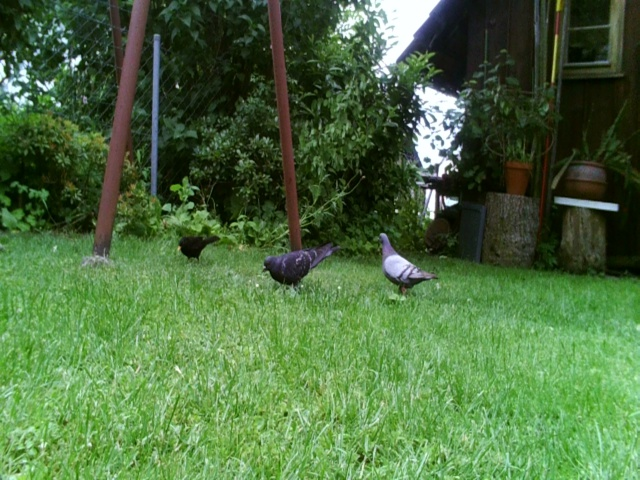Pigeon: (371, 228, 439, 304), (261, 237, 343, 296)
